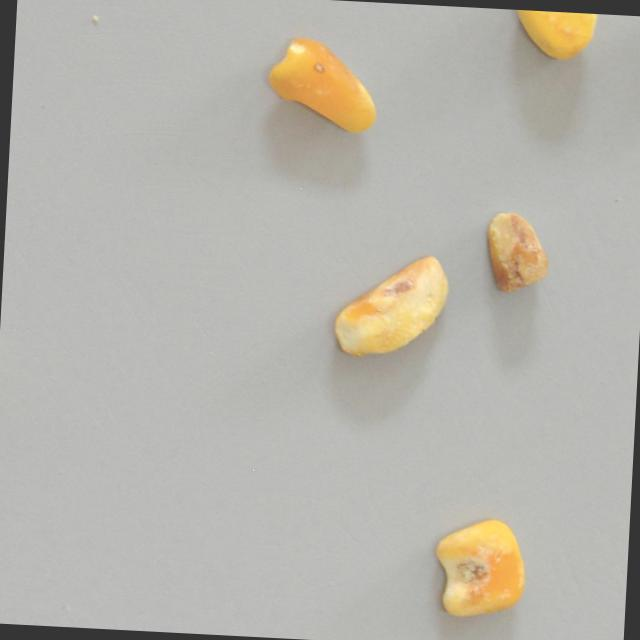dañado: (325, 244, 452, 364), (260, 26, 387, 145), (426, 510, 541, 628), (458, 194, 572, 312), (510, 10, 621, 74), (0, 309, 14, 422)
